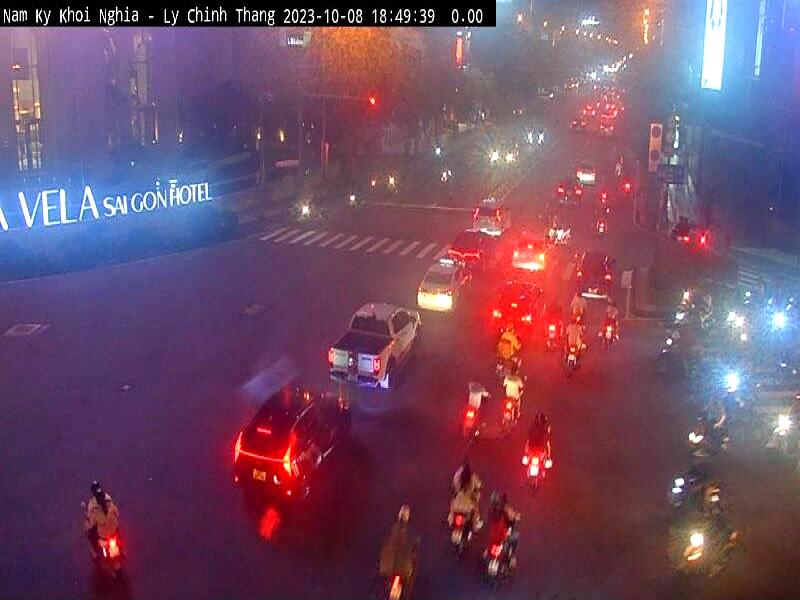car: (329, 302, 423, 389)
